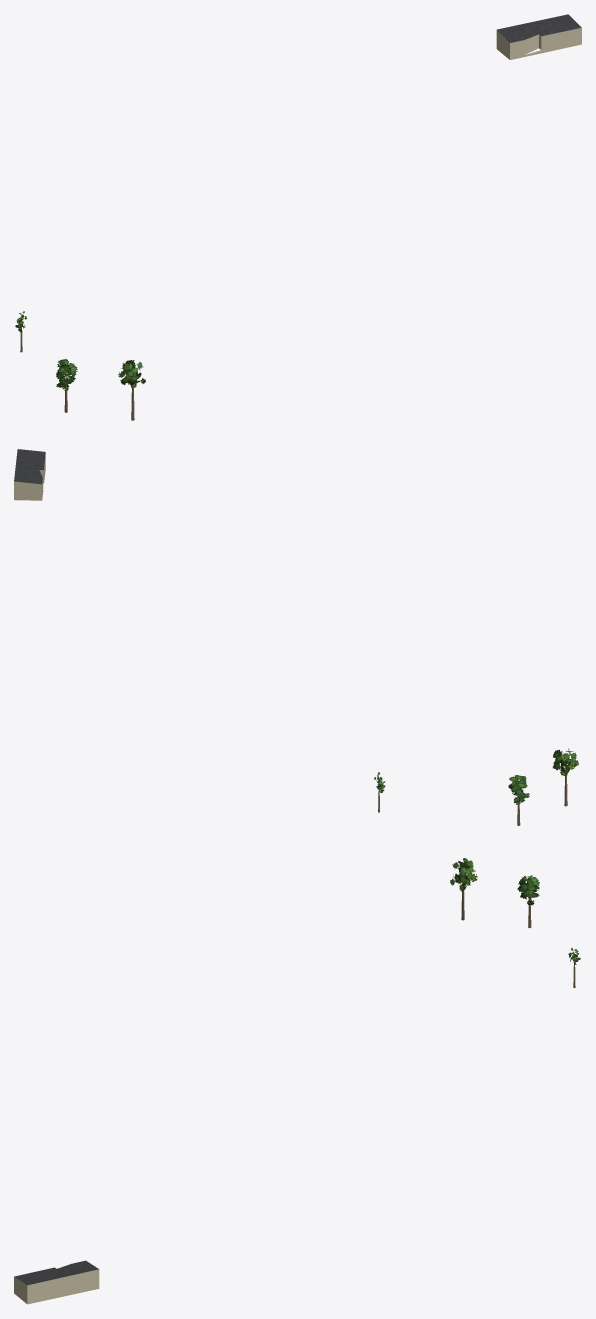
3 renders of one model, top to bottom at view 1: azimuth 90°, elevation 25°; view 2: azimuth 150°, elevation 25°; view 3: azimuth 270°, elevation 25°, orthographic. The views are drawn at different scales.
Visible parts, largest first — view 1: bldg_6003955002, bldg_6003955002_roof, tree_5978, tree_9883; view 2: bldg_6003955002_roof, bldg_6003955002, tree_5978; view 3: bldg_6003955002, bldg_6003955002_roof, tree_5978.
Part boxes in pixels (box(x1,y1,x2,y2)): bldg_6003955002: box(496, 27, 581, 59); bldg_6003955002_roof: box(497, 14, 581, 42); tree_5978: box(118, 360, 145, 420); tree_9883: box(56, 359, 77, 412); bldg_6003955002_roof: box(14, 449, 45, 484); bldg_6003955002: box(14, 455, 45, 500); tree_5978: box(552, 748, 578, 806); bldg_6003955002: box(14, 1269, 99, 1304); bldg_6003955002_roof: box(14, 1260, 98, 1285); tree_5978: box(450, 858, 477, 920).
Size of the model in its own units: 111 by 8.26 by 67.68.
Materials: 3 (3 with a texture image).
